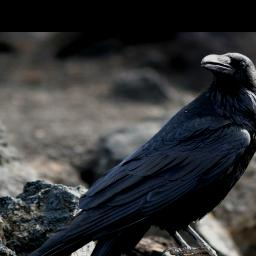Crow: (0, 51, 256, 256)
